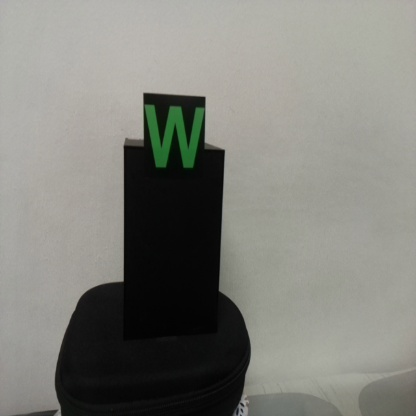id_12: (143, 93, 206, 188)
